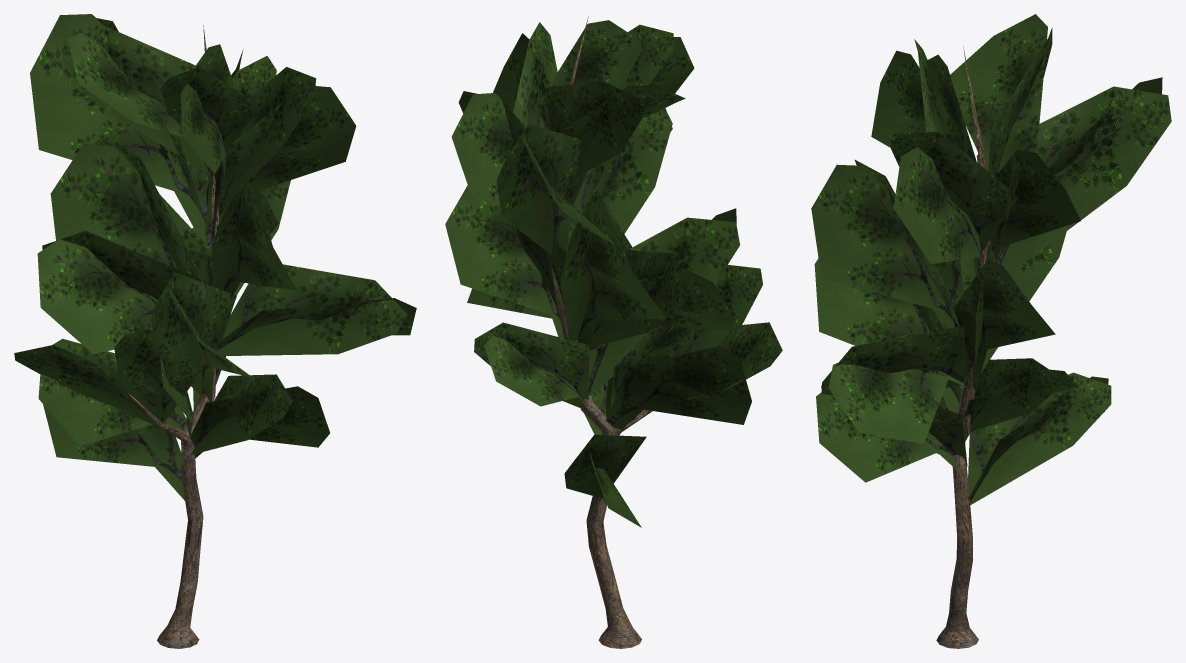
Rendered from tree_4.fbx.
The picture shows the model from 3 angles, left to right: view 1: azimuth 30°, elevation 25°; view 2: azimuth 150°, elevation 25°; view 3: azimuth 270°, elevation 25°; orthographic projection. The views are drawn at different scales.
Parts seen in each view (by area): view 1: Mesh Object; view 2: Mesh Object; view 3: Mesh Object.
Part boxes in pixels (x1,y1,x2,y2): Mesh Object: (14,14,416,648); Mesh Object: (445,16,782,648); Mesh Object: (811,14,1171,648).
Bounding box in the file's own units: 6.29 × 10.62 × 5.7.
